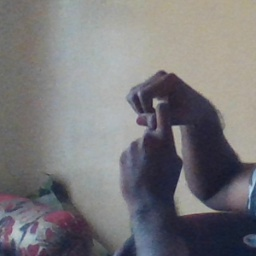Q: (112, 69, 202, 189)
